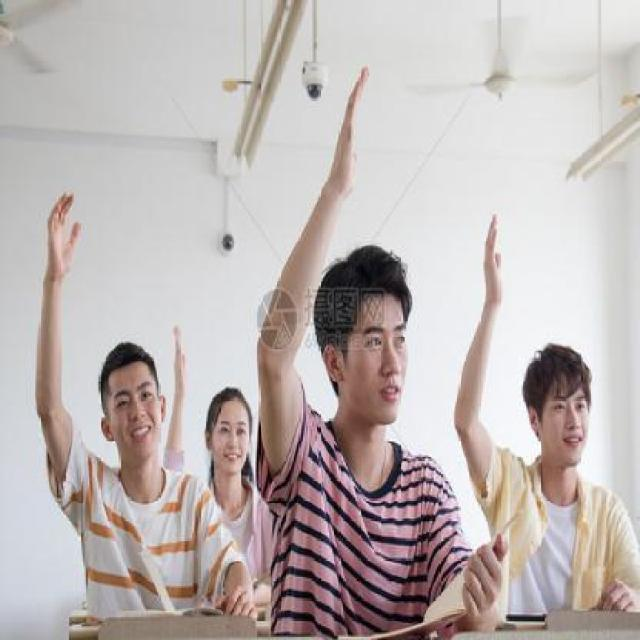face_nomask: (354, 311, 404, 432), (108, 383, 166, 449), (546, 392, 591, 476), (211, 415, 251, 474)
hand_noglove: (334, 63, 369, 197), (463, 532, 508, 623), (43, 190, 79, 282), (480, 212, 506, 302), (214, 583, 257, 625), (592, 577, 637, 615), (171, 322, 186, 396)
head_nohelmet: (324, 243, 416, 312), (512, 334, 590, 391), (92, 329, 163, 386), (214, 388, 257, 423)
person: (250, 84, 455, 640), (17, 183, 249, 640), (449, 194, 640, 640), (197, 366, 261, 543)
